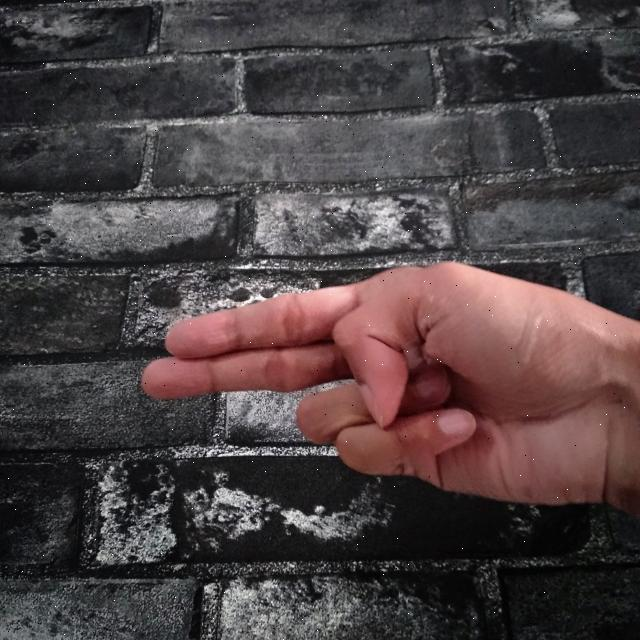H: (128, 254, 640, 524)
